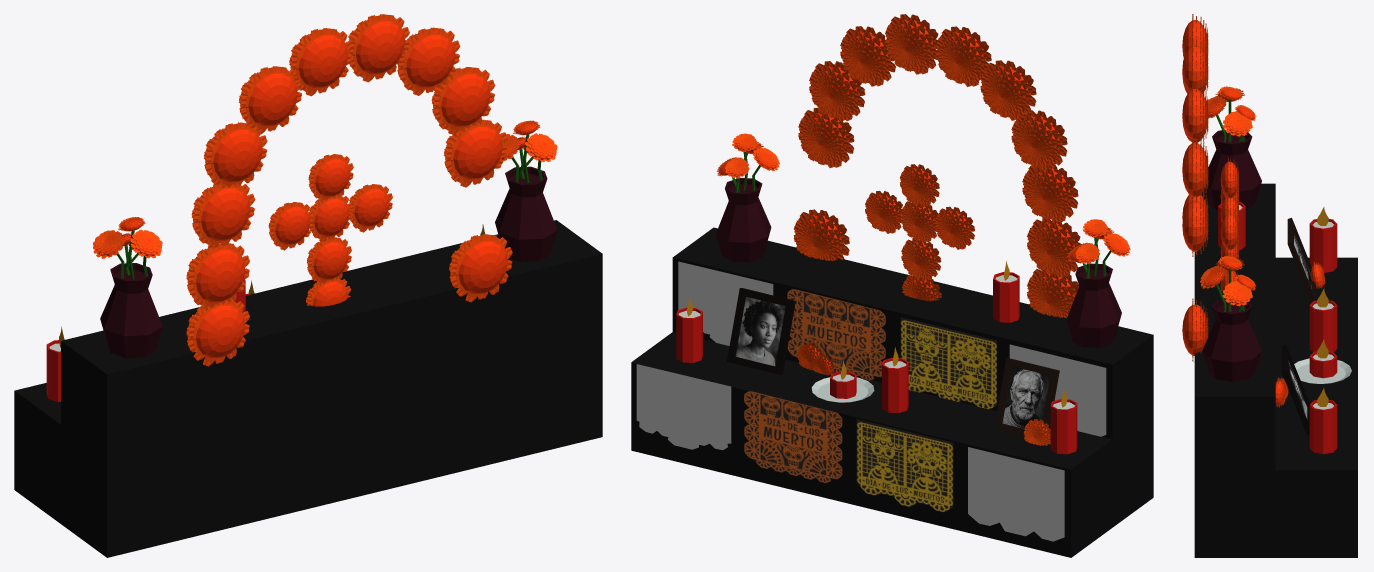
File: altar1_incompleto.obj
3 renders of one model, left to right at view 1: azimuth 30°, elevation 25°; view 2: azimuth 150°, elevation 25°; view 3: azimuth 270°, elevation 25°, orthographic. The views are drawn at different scales.
Parts seen in each view (by area): view 1: Cubo, Plano.283, Cilindro.043, Cilindro.044, Plano.277, Plano.275, Plano.276, Plano.274, Plano.273, Plano.270, Plano.272, Plano.268 (+4 smaller); view 2: Cubo, Plano.308, Plano.283, Plano.303, Plano.309, Plano.437, Plano.307, Plano.434, Cilindro.043, Cilindro.044, Plano.435, Plano.436 (+21 smaller); view 3: Cubo, Cilindro.044, Cilindro.043, Plano.283, Cilindro.046, Cilindro.047, Cilindro.048, Plano.268, Plano.269, Plano.267, Plano.277, Plano.270 (+10 smaller).
Part boxes in pixels (left/top/right/bottom): Cubo: left=14, top=220, right=602, bottom=557; Plano.283: left=268, top=154, right=392, bottom=306; Cilindro.043: left=93, top=217, right=162, bottom=358; Cilindro.044: left=495, top=120, right=557, bottom=261; Plano.277: left=449, top=234, right=512, bottom=302; Plano.275: left=239, top=66, right=301, bottom=134; Plano.276: left=289, top=28, right=352, bottom=96; Plano.274: left=204, top=122, right=267, bottom=188; Plano.273: left=191, top=182, right=255, bottom=248; Plano.270: left=348, top=14, right=409, bottom=82; Plano.272: left=186, top=243, right=249, bottom=309; Plano.268: left=431, top=67, right=495, bottom=134; Cubo: left=631, top=227, right=1153, bottom=557; Plano.308: left=968, top=447, right=1064, bottom=541; Plano.283: left=865, top=164, right=974, bottom=301; Plano.303: left=744, top=390, right=842, bottom=483; Plano.309: left=856, top=419, right=953, bottom=512; Plano.437: left=900, top=317, right=996, bottom=409; Plano.307: left=636, top=364, right=731, bottom=450; Plano.434: left=787, top=288, right=885, bottom=380; Cilindro.043: left=1066, top=219, right=1130, bottom=347; Cilindro.044: left=716, top=133, right=779, bottom=262; Plano.435: left=678, top=261, right=773, bottom=345; Plano.436: left=1009, top=344, right=1106, bottom=436; Cubo: left=1194, top=183, right=1357, bottom=557; Cilindro.044: left=1200, top=256, right=1261, bottom=381; Cilindro.043: left=1205, top=86, right=1261, bottom=209; Plano.283: left=1220, top=157, right=1238, bottom=292; Cilindro.046: left=1309, top=388, right=1337, bottom=454; Cilindro.047: left=1309, top=206, right=1337, bottom=272; Cilindro.048: left=1309, top=288, right=1337, bottom=352; Plano.268: left=1182, top=140, right=1208, bottom=202; Plano.269: left=1182, top=83, right=1208, bottom=145; Plano.267: left=1182, top=197, right=1208, bottom=256; Plano.277: left=1182, top=298, right=1208, bottom=361; Plano.270: left=1182, top=38, right=1208, bottom=94.
Size of the model in its own units: 0.3675 by 0.338 by 0.1293.
